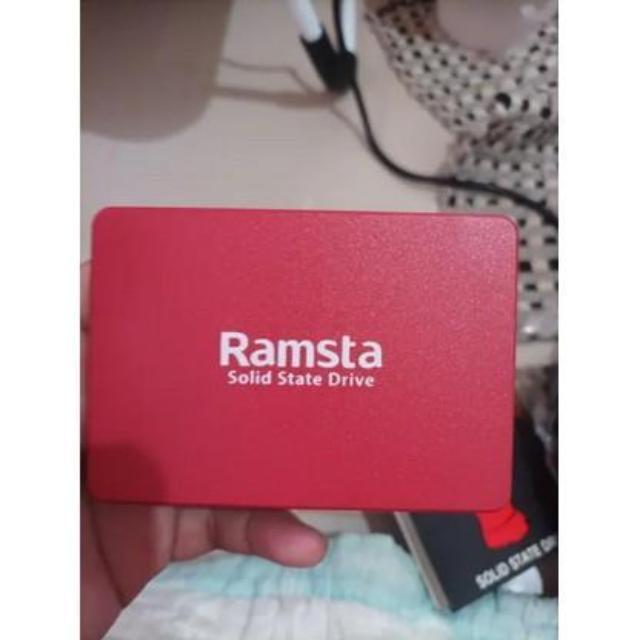DISK: (84, 200, 516, 514)
